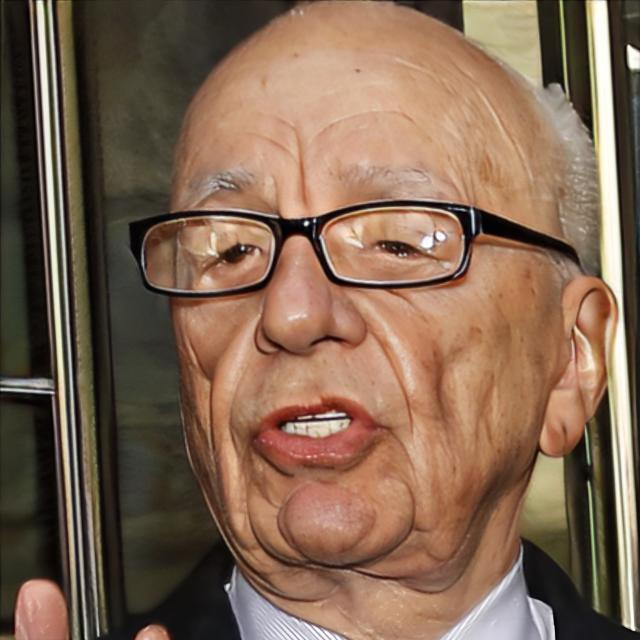disgust: (165, 0, 564, 600)
